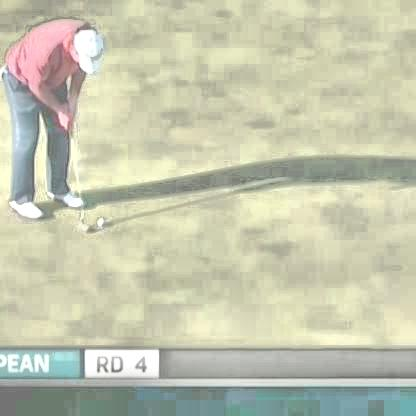golfball: (94, 217, 104, 227)
